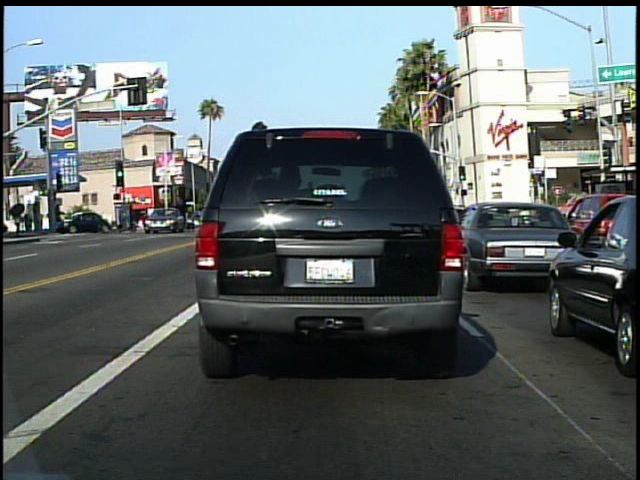person: (5, 199, 28, 238)
